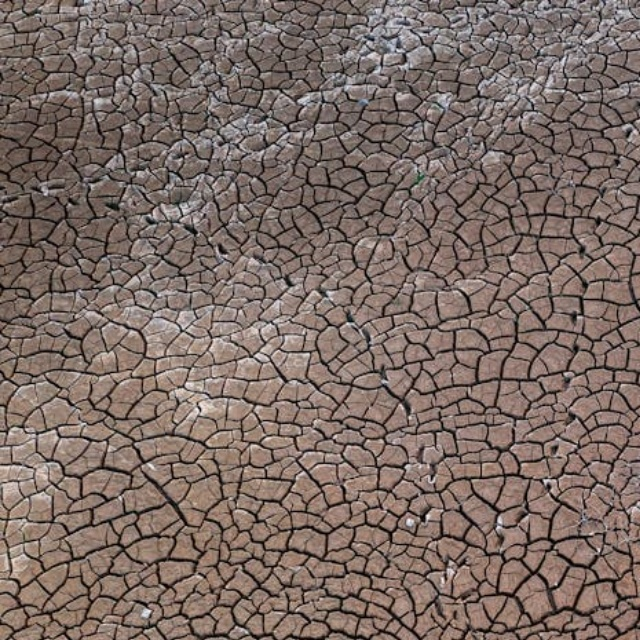网状裂隙: (15, 352, 347, 640), (0, 339, 181, 640)
